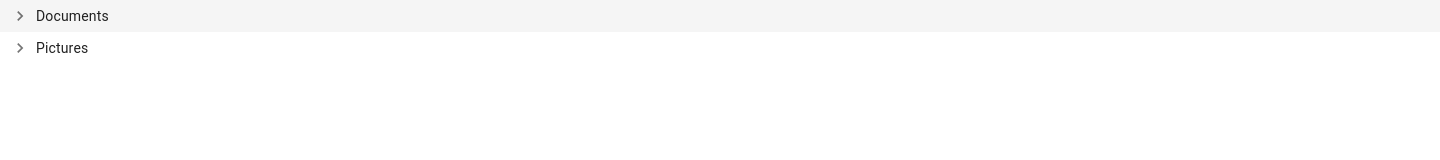
Test: Visual Features › Expand/Collapse Animations › should animate expansion when animateExpansion is true
This screenshot has width=1440, height=160.
Click the button "Documents".
click(72, 16)  # box top-left (0, 0), bottom-right (1439, 32)
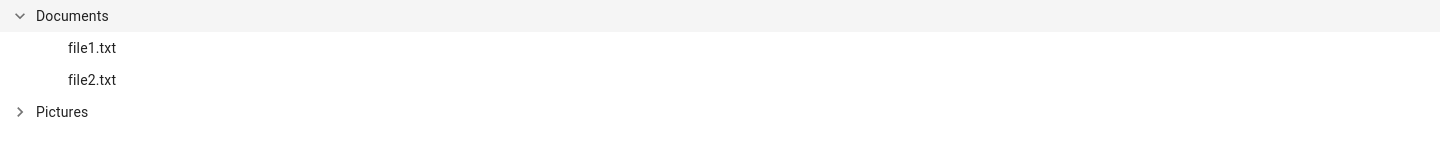
Check: the text "file1.txt" is shown, box top-left (68, 40), bottom-right (116, 56)
